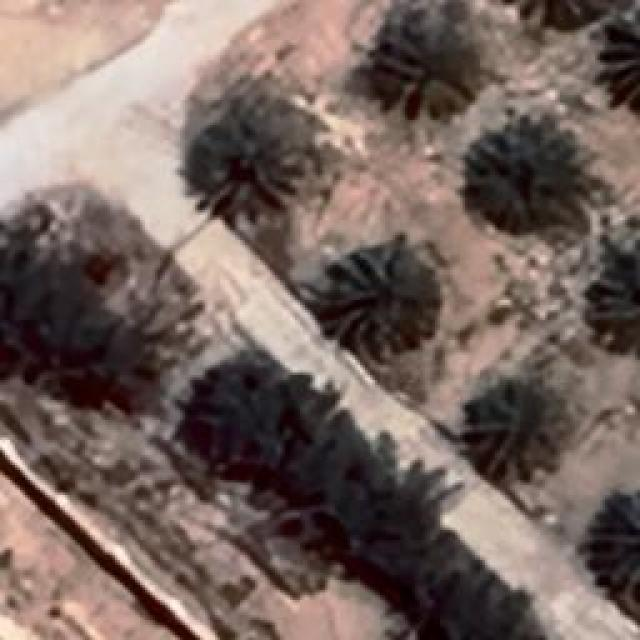PalmTree: (322, 242, 436, 356), (192, 101, 298, 219), (360, 10, 478, 115), (458, 377, 572, 485), (470, 129, 578, 239), (590, 482, 638, 596), (497, 0, 627, 36), (590, 270, 638, 352), (598, 10, 638, 100)
